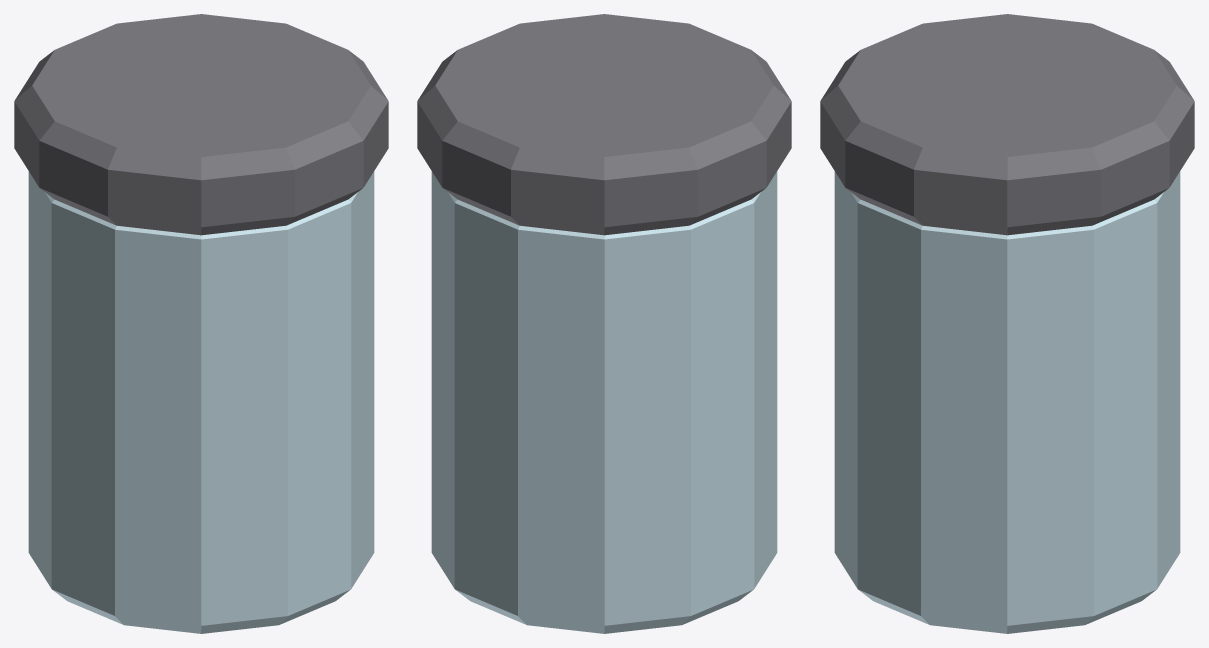
Rendered from SM_Jar_01.fbx.
The picture shows the model from 3 angles, left to right: view 1: azimuth 30°, elevation 25°; view 2: azimuth 150°, elevation 25°; view 3: azimuth 270°, elevation 25°; orthographic projection.
Parts seen in each view (by area): view 1: Jar_01; view 2: Jar_01; view 3: Jar_01.
Boxes of the visible parts, x1,y1,x2,y2 form: Jar_01: (14, 14, 388, 633); Jar_01: (417, 14, 791, 633); Jar_01: (820, 14, 1194, 633).
Bounding box in the file's own units: 13 × 18.5 × 13.
